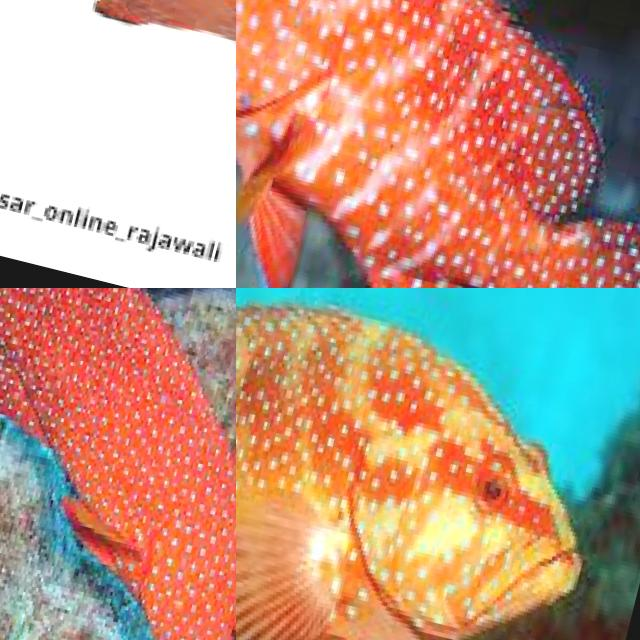Plectropomus-leopardus: (236, 288, 633, 640), (236, 0, 640, 288), (0, 288, 236, 640), (0, 0, 236, 195)
